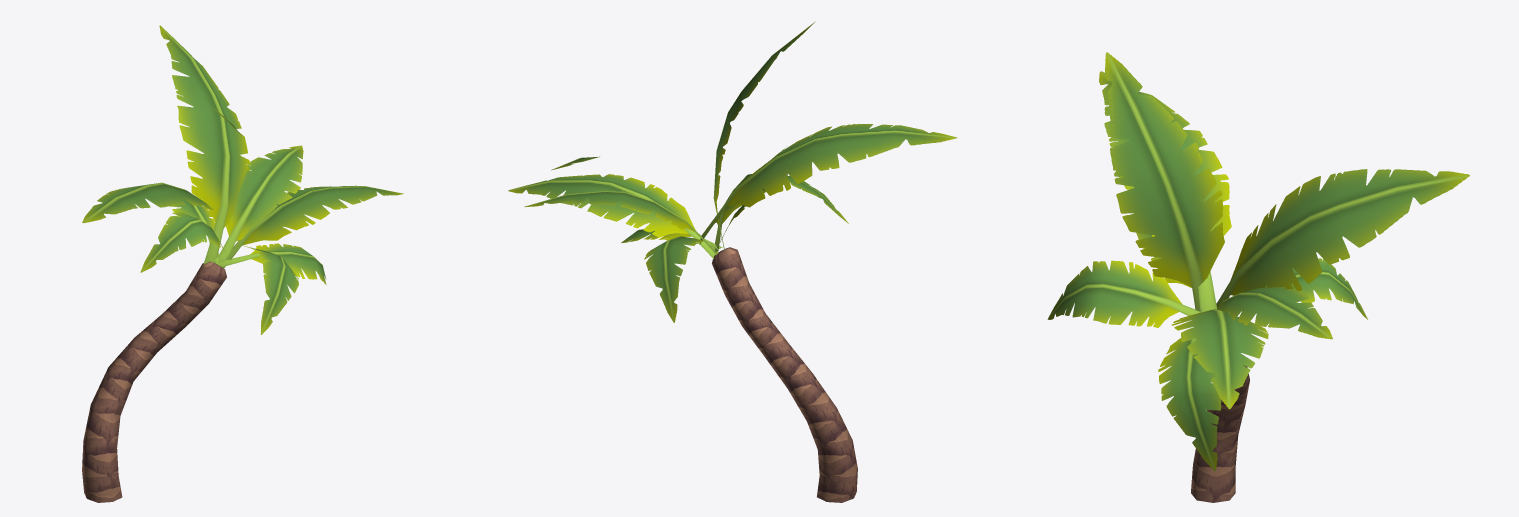
Rendered from palm-2.glb.
The picture shows the model from 3 angles, left to right: view 1: azimuth 30°, elevation 25°; view 2: azimuth 150°, elevation 25°; view 3: azimuth 270°, elevation 25°; orthographic projection. The views are drawn at different scales.
Parts seen in each view (by area): view 1: PalmTree_2; view 2: PalmTree_2; view 3: PalmTree_2.
Boxes of the visible parts, box(x1,y1,x2,y2) form: PalmTree_2: box(82, 25, 403, 502); PalmTree_2: box(508, 21, 957, 502); PalmTree_2: box(1047, 52, 1469, 502).
Size of the model in its own units: 5.58 by 5.28 by 4.77.
Materials: 2 (2 with a texture image).
